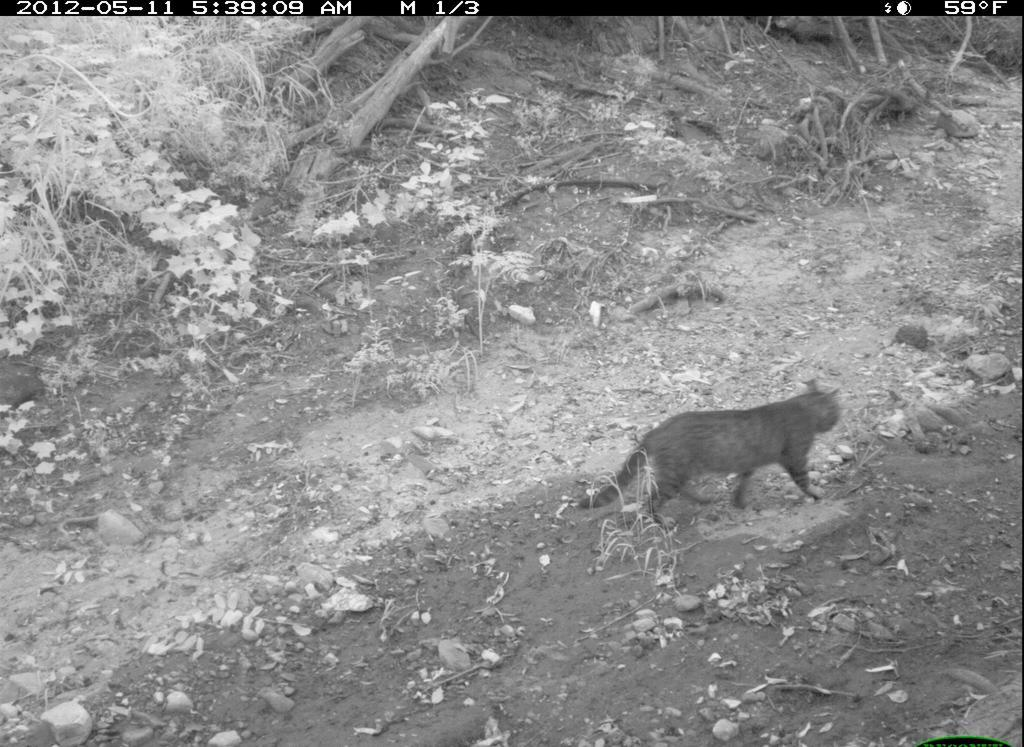cat: (577, 375, 842, 541)
